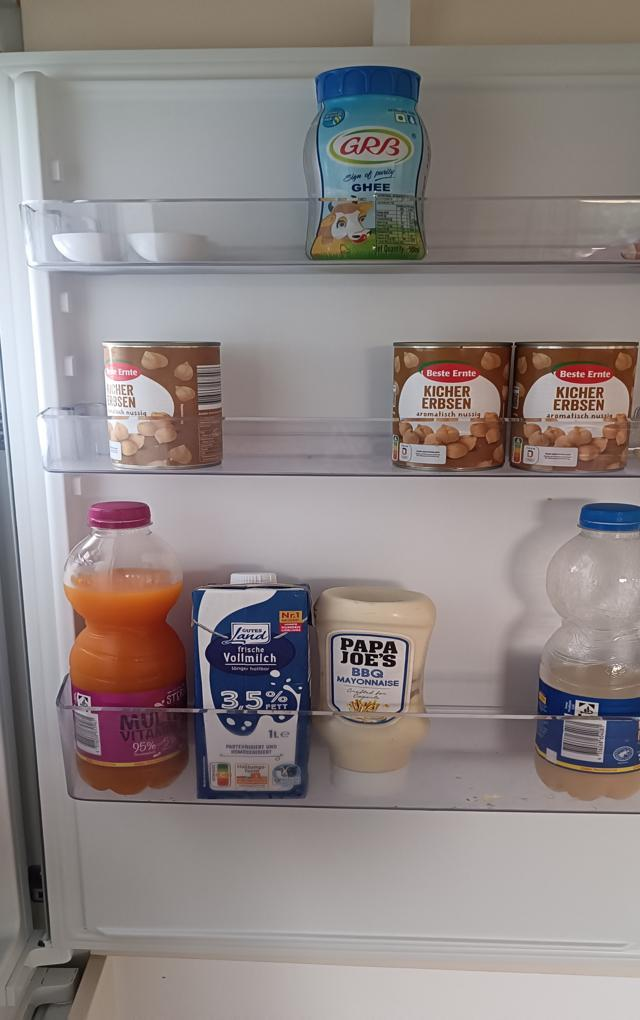bananajuice: (532, 498, 640, 811)
chickpeas: (103, 341, 224, 470), (513, 342, 634, 471), (393, 339, 508, 473)
ghee: (299, 62, 428, 266)
mayoniasie: (314, 587, 438, 796)
milk: (192, 569, 315, 802)
orangejuice: (63, 502, 194, 797)
